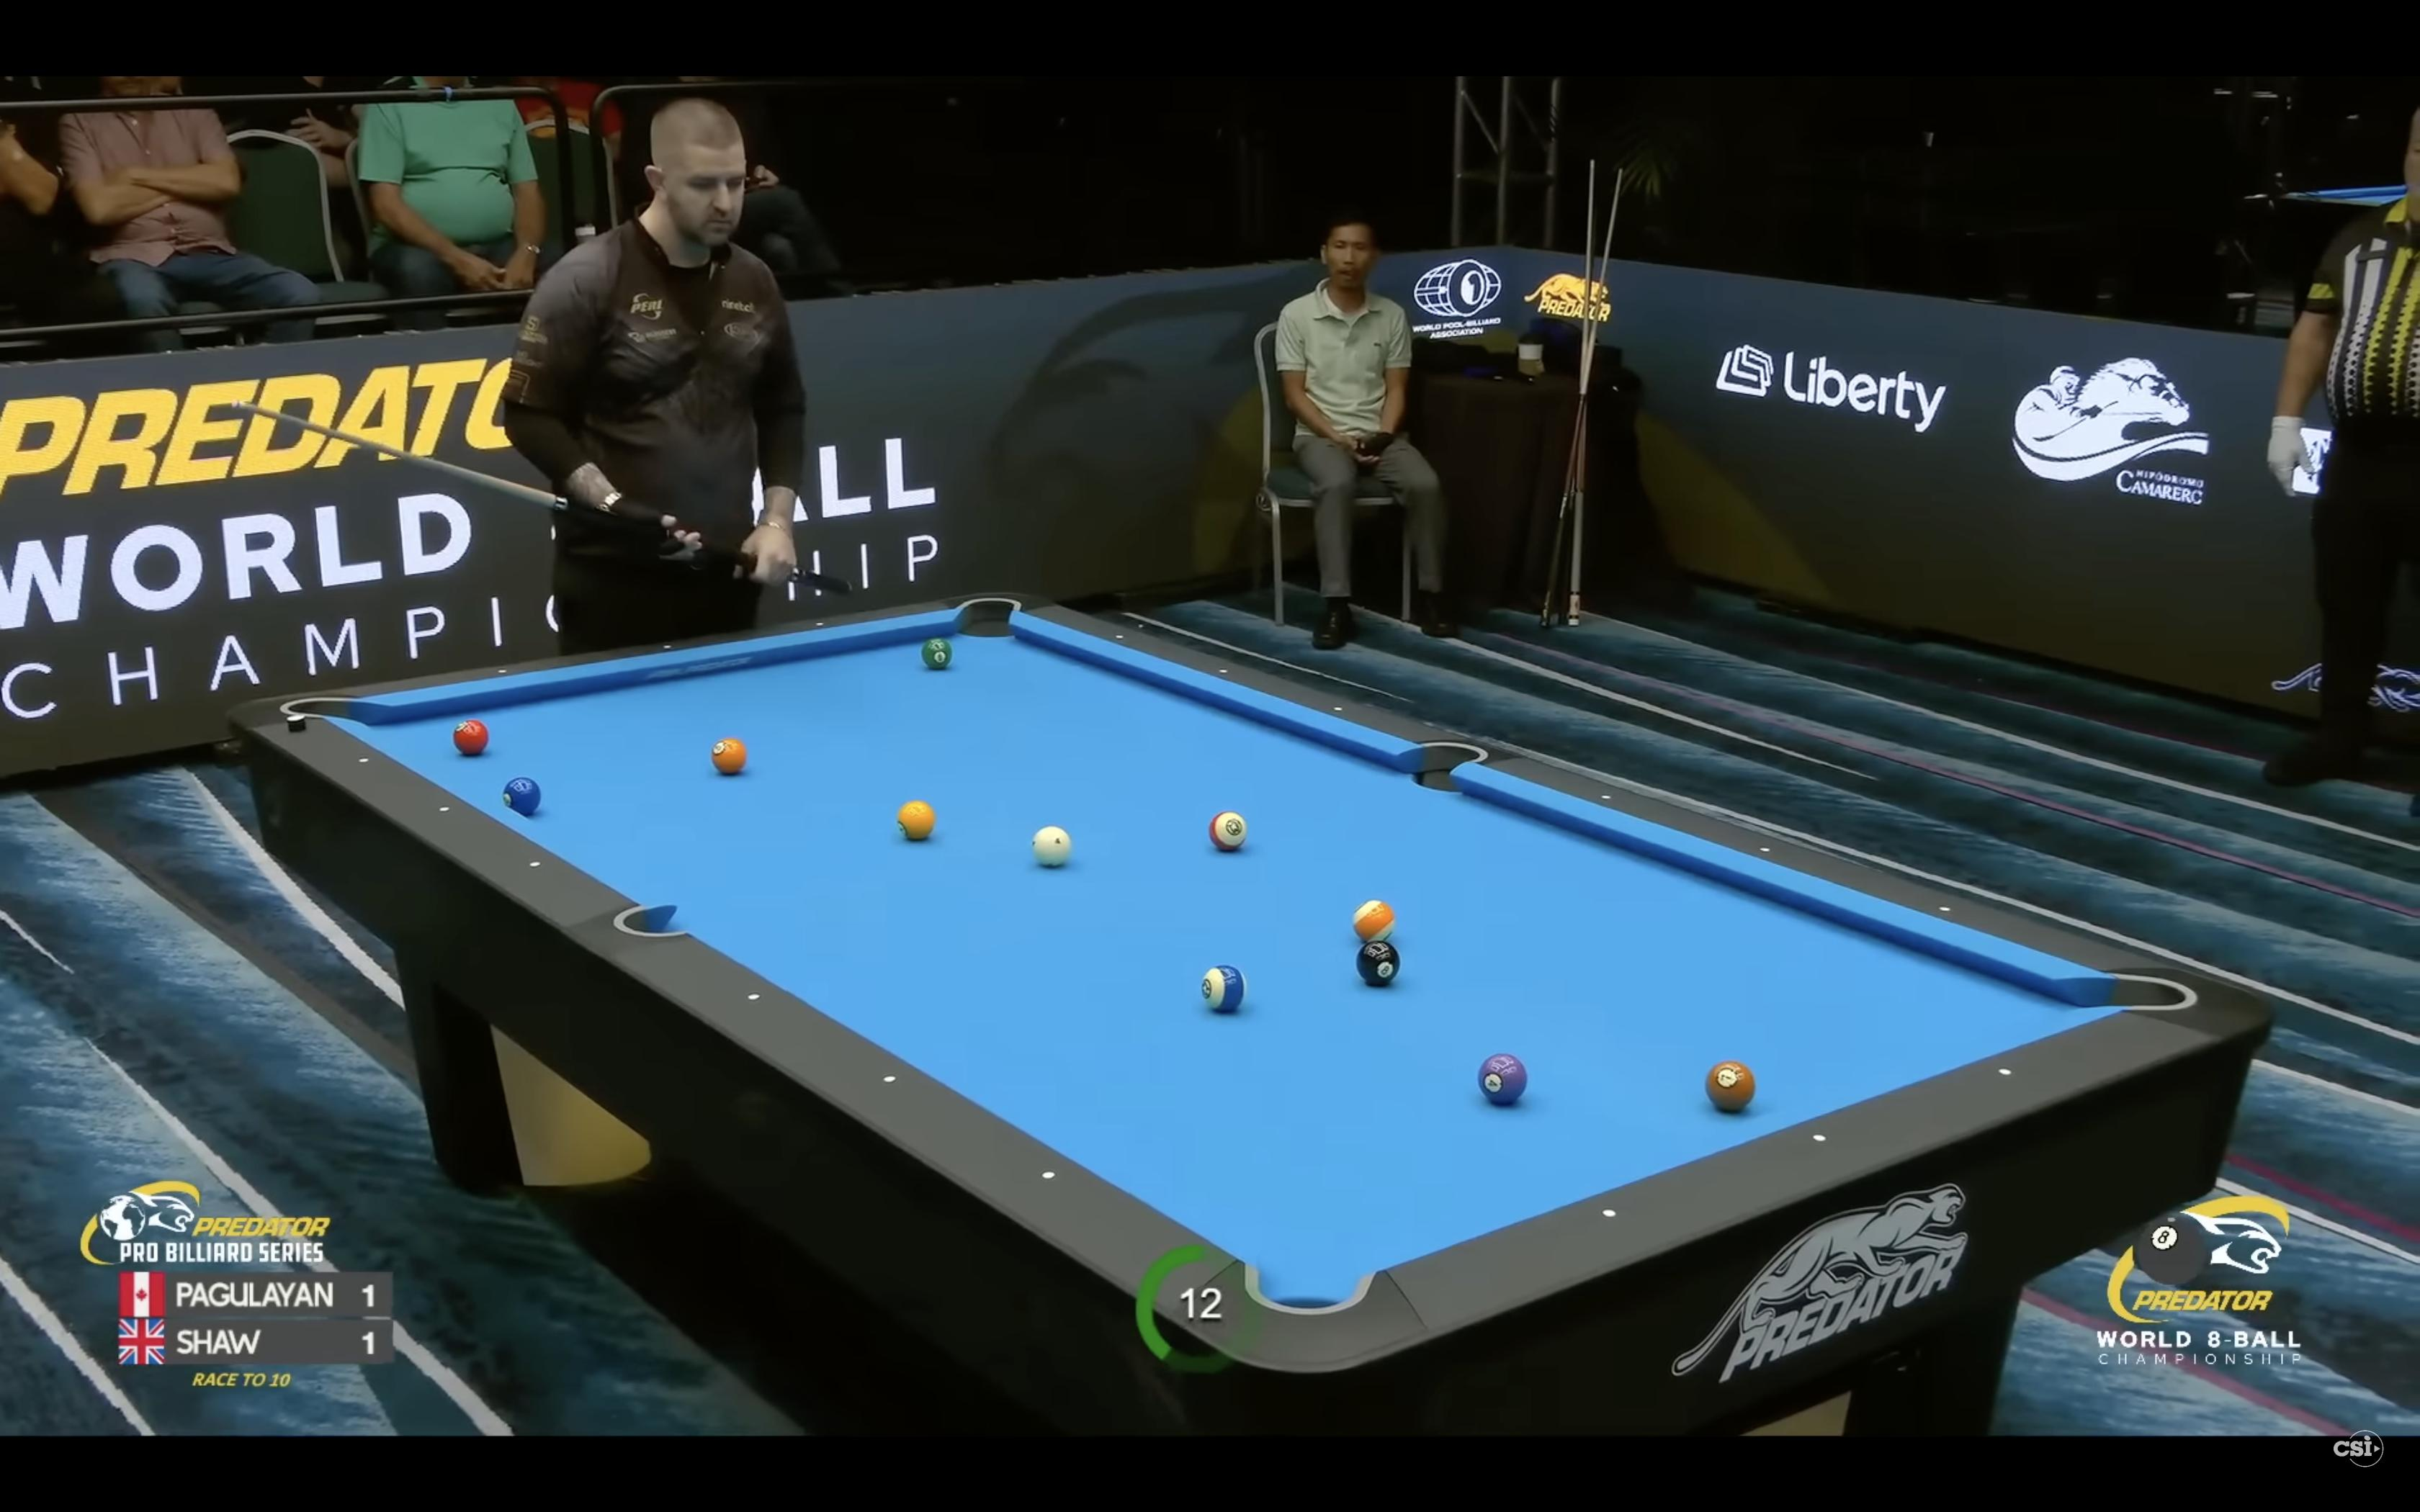Black: (1355, 941, 1403, 984)
Cue: (1030, 824, 1073, 867)
Dot: (1040, 1169, 1058, 1181), (1601, 1207, 1617, 1219), (1812, 1132, 1828, 1143), (883, 1073, 897, 1083), (1998, 1066, 2012, 1077), (747, 991, 760, 1002), (528, 859, 542, 867), (1937, 904, 1951, 913), (1758, 845, 1772, 854), (439, 805, 451, 813), (1333, 705, 1343, 712), (1218, 667, 1228, 674), (357, 758, 369, 763), (1599, 794, 1612, 800), (497, 669, 509, 674), (1115, 634, 1124, 639), (662, 645, 671, 650), (815, 622, 824, 625)
Solid: (1704, 1061, 1756, 1113), (1479, 1052, 1528, 1104), (896, 798, 937, 841), (451, 718, 493, 758), (504, 775, 542, 815), (711, 737, 747, 775), (920, 638, 955, 671)
Striped: (1202, 965, 1247, 1016), (1352, 897, 1396, 942), (1207, 810, 1249, 854)
